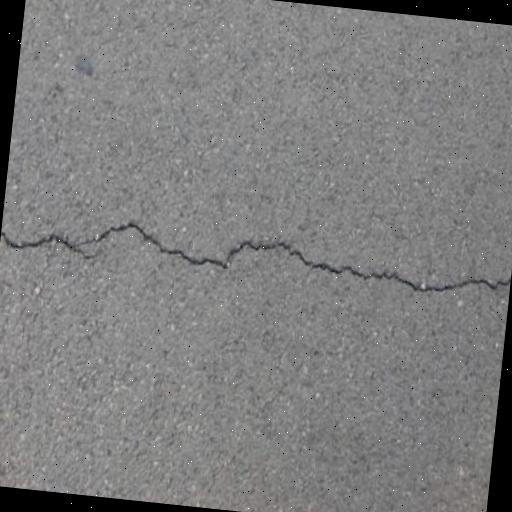spalling: (8, 197, 507, 318)
